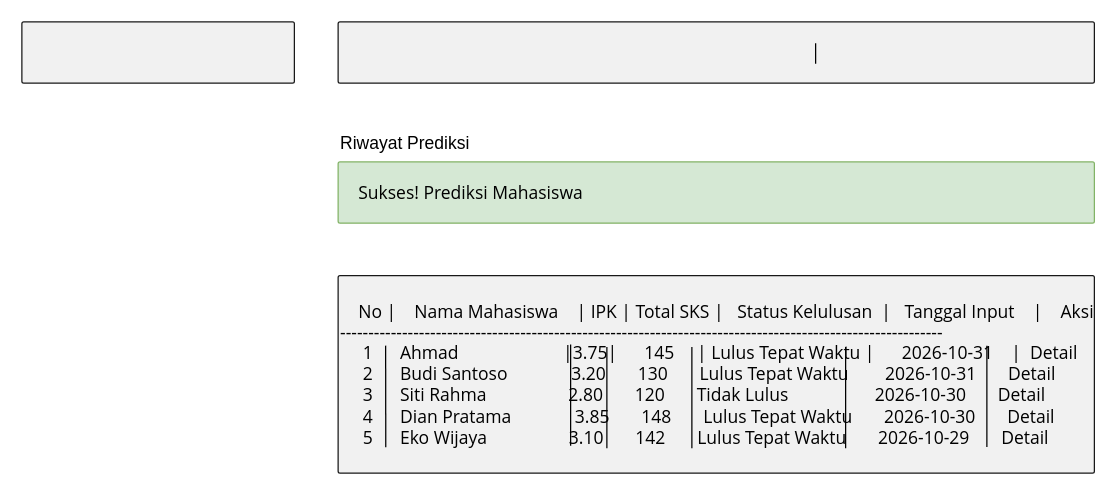
This 1116x495 diagram has some shape labels left out. Here are the shapes that lost their labels. From the top down, the box of each, then its label:
(21, 21, 294, 83): 🎓 SIAKAD NAMA UNIVERSITAS
(337, 21, 1094, 83): 🧭 Dashboard 🔔 👤 Nama Lengkap Mahasiswa
